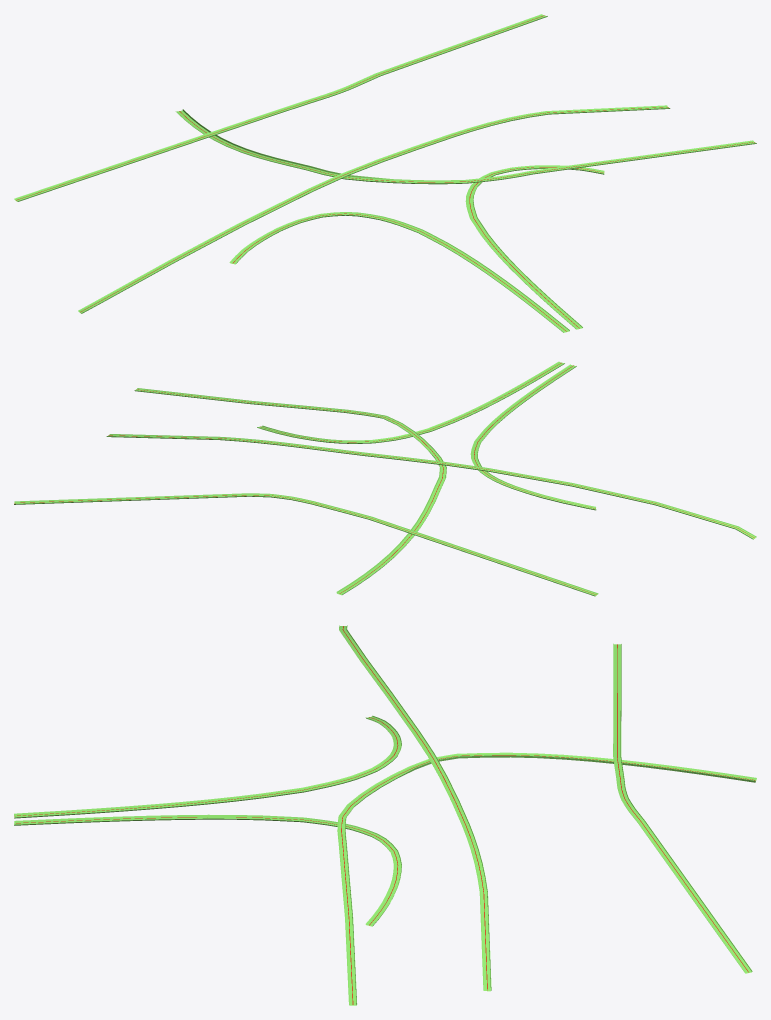
File: SM_Roads_Merged.fbx
The picture shows the model from 3 angles, top to bottom: view 1: azimuth 30°, elevation 25°; view 2: azimuth 150°, elevation 25°; view 3: azimuth 270°, elevation 25°; orthographic projection. The views are drawn at different scales.
Parts seen in each view (by area): view 1: SM_Roads_Merged; view 2: SM_Roads_Merged; view 3: SM_Roads_Merged.
Boxes of the visible parts, box(x1,y1,x2,y2) form: SM_Roads_Merged: box(14, 14, 756, 332); SM_Roads_Merged: box(14, 361, 756, 596); SM_Roads_Merged: box(14, 625, 756, 1005).
Bounding box in the file's own units: 121923 × 6889 × 100461.
